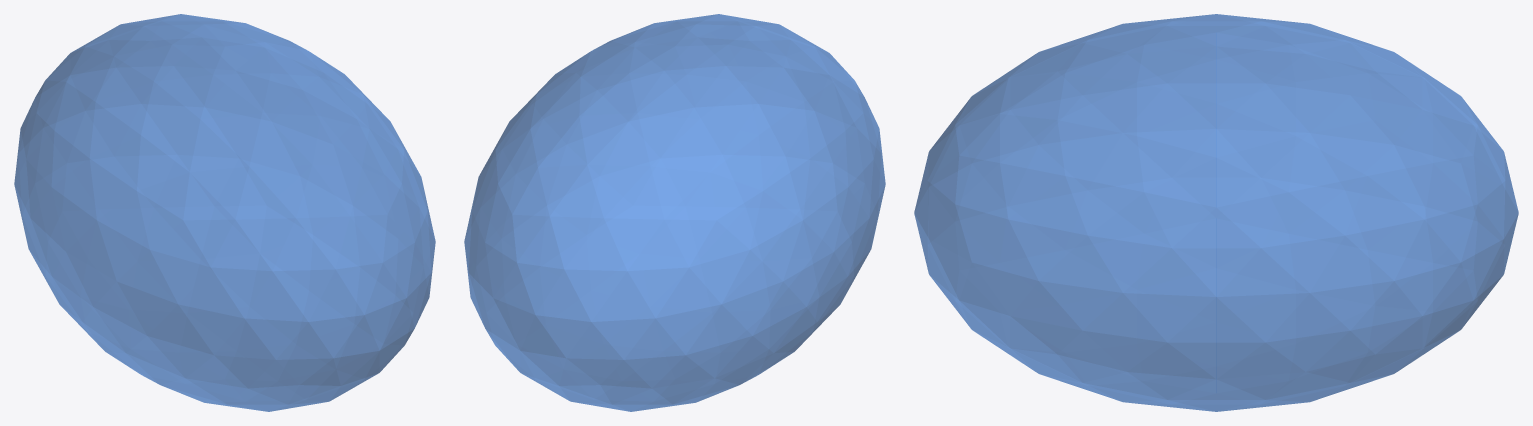
The model's file is WarpBubble 2.fbx.
3 renders of one model, left to right at view 1: azimuth 30°, elevation 25°; view 2: azimuth 150°, elevation 25°; view 3: azimuth 270°, elevation 25°, orthographic. The views are drawn at different scales.
Parts seen in each view (by area): view 1: WarbBubble; view 2: WarbBubble; view 3: WarbBubble.
Boxes of the visible parts, x1,y1,x2,y2 form: WarbBubble: (14,14,435,411); WarbBubble: (464,14,885,411); WarbBubble: (914,14,1518,411).
Size of the model in its own units: 3863 by 3863 by 5867.
